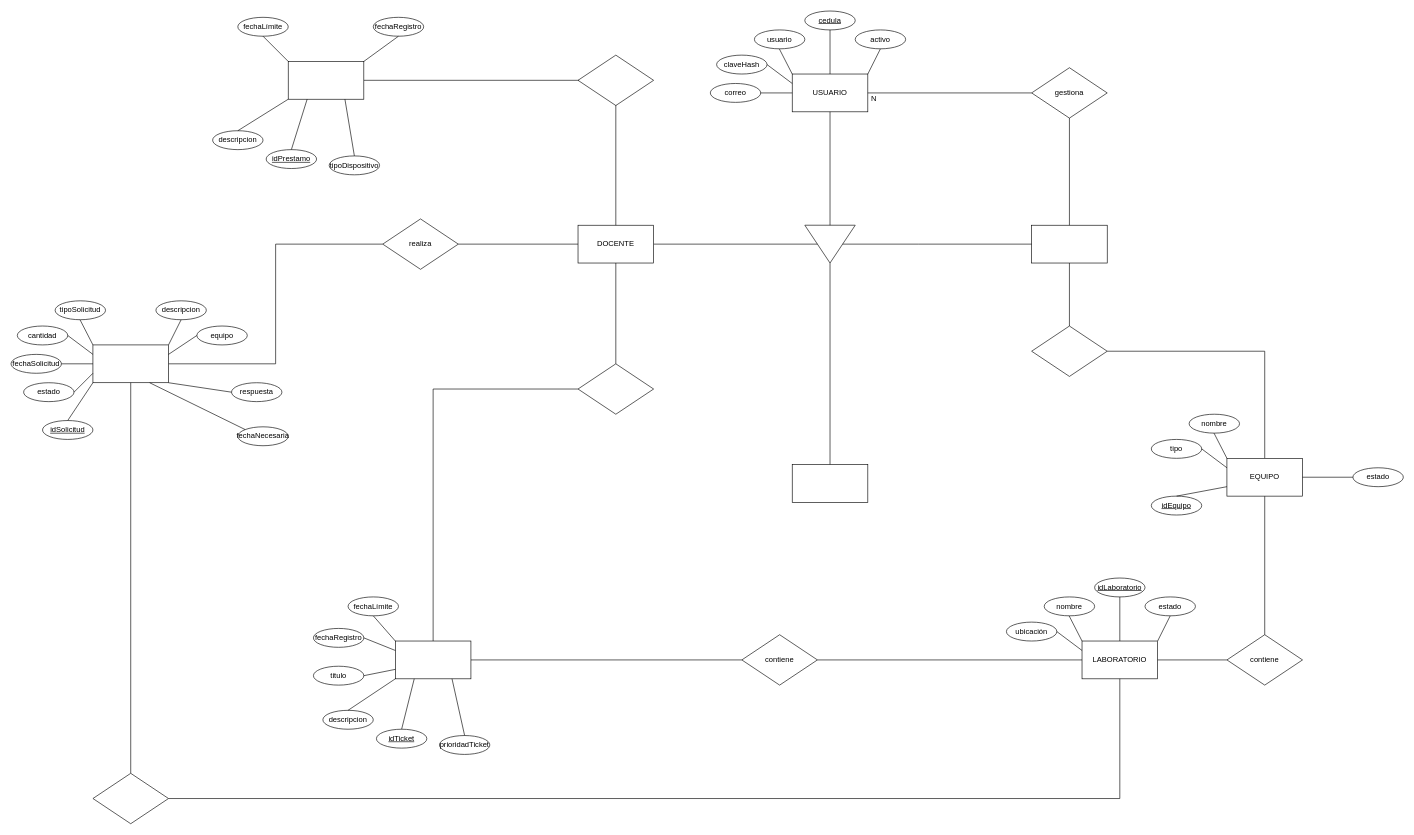
Image size: 1414x835. Some labels were removed from this diagram. Each missing label, with the centre of its shape:
"ADMINISTRADOR" goes at (x=1069, y=244).
"crea" goes at (x=615, y=388).
"PRESTAMO" goes at (x=326, y=80).
"registra" goes at (x=1069, y=350).
"requiere" goes at (x=130, y=798).
"solicita" goes at (x=615, y=80).
"SOLICITUD" goes at (x=130, y=363).
"TICKET" goes at (x=433, y=659).
"TÉCNICO" goes at (x=830, y=483).
